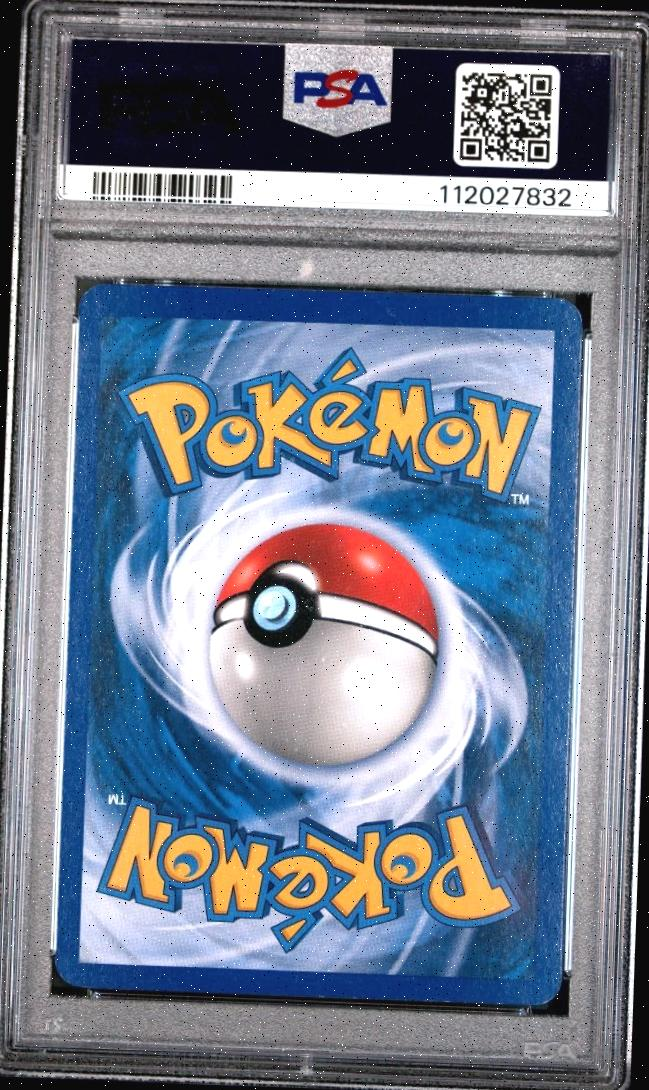card-2UtV: (54, 283, 582, 1005)
